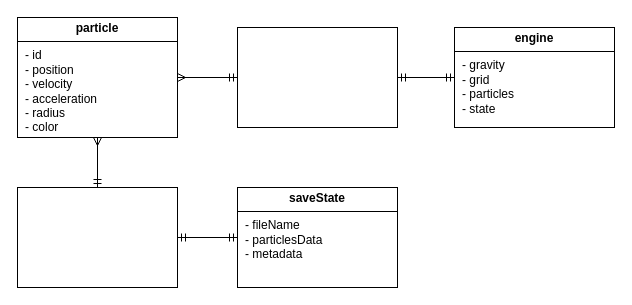
The diagram is 632 pixels wide and 305 high, and some of its shapes have lost their labels. The centre of each missing label's shape, as x and y in pixels:
"benchmark - physicsTime - renderTime - fpsValues - particleCount" goes at (97,237).
"SpatialGrid - cellSize - gridWidth - gridHeight - grid" goes at (317,77).
